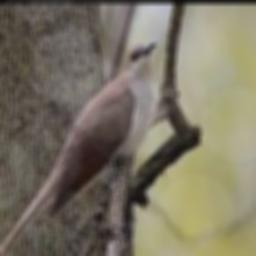Cuckoo: (0, 41, 156, 256)
